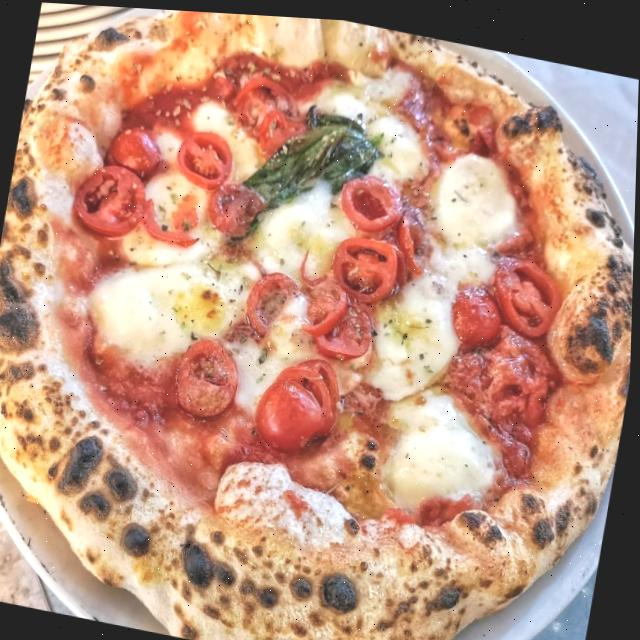basil: (224, 98, 353, 260), (302, 95, 395, 200)
pizza: (0, 0, 640, 640)
tomatoes: (67, 154, 154, 242), (170, 328, 248, 424), (487, 247, 571, 335), (488, 321, 561, 413), (274, 348, 351, 435), (326, 225, 403, 307), (252, 372, 330, 452), (228, 68, 309, 142), (136, 174, 216, 248), (312, 286, 382, 366), (337, 164, 409, 236), (243, 262, 303, 344), (173, 122, 238, 190), (290, 271, 352, 341), (206, 173, 271, 237), (449, 278, 508, 344), (105, 116, 167, 178), (256, 104, 315, 157)
